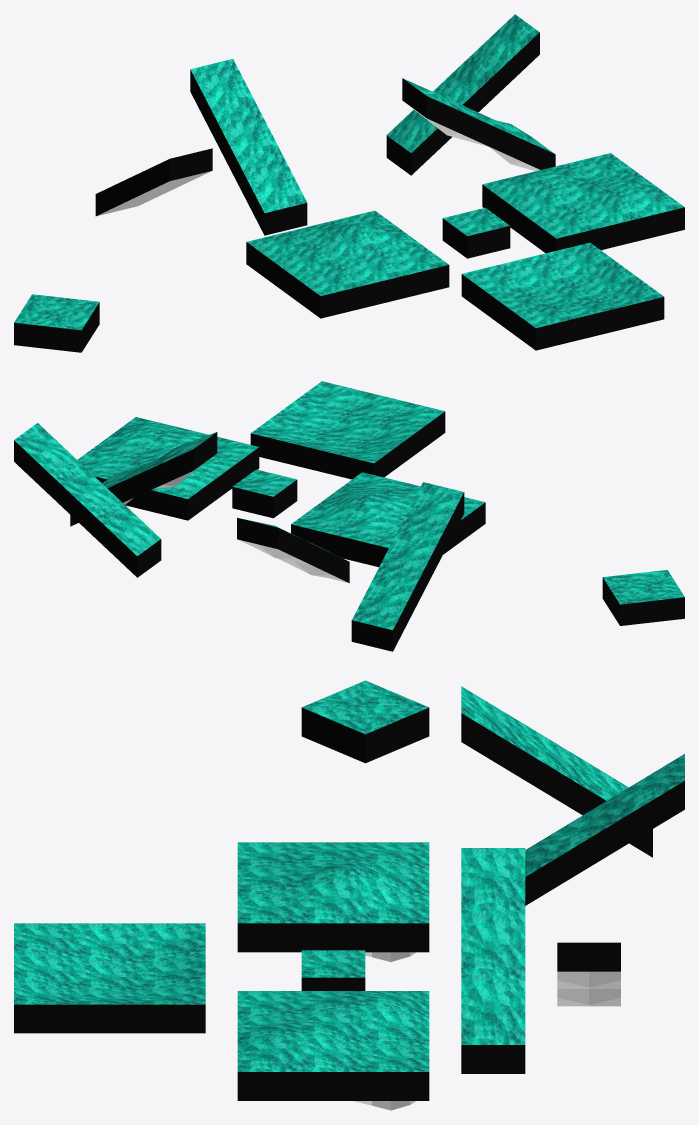
File: CaveModularFloors.glb
3 views of the same model, one above another, from view 1: azimuth 30°, elevation 25°; view 2: azimuth 150°, elevation 25°; view 3: azimuth 270°, elevation 25° (orthographic). The views are drawn at different scales.
Parts seen in each view (by area): view 1: Flloor4, Floor2, Floor3, RampN1, RampE1, RampW1, RampS1, Floor1, Corner2, Corner1, Corner3, Corner4; view 2: Flloor4, RampS1, Floor3, Floor2, RampE1, RampW1, RampN1, Floor1, Corner4, Corner3, Corner1, Corner2; view 3: Floor2, Floor3, Flloor4, RampW1, RampN1, RampS1, RampE1, Corner1, Corner3, Floor1, Corner2, Corner4.
Boxes of the visible parts, box(x1,y1,x2,y2) form: Flloor4: box(461, 242, 664, 350); Floor2: box(246, 210, 449, 318); Floor3: box(482, 153, 684, 253); RampN1: box(190, 59, 307, 235); RampE1: box(386, 14, 539, 175); RampW1: box(402, 78, 555, 171); RampS1: box(95, 148, 212, 216); Floor1: box(442, 207, 510, 258); Corner2: box(14, 312, 81, 352); Corner1: box(57, 302, 99, 351); Corner3: box(33, 294, 99, 311); Corner4: box(14, 294, 56, 322); Flloor4: box(250, 381, 445, 479); RampS1: box(351, 482, 464, 651); Floor3: box(77, 417, 259, 520); Floor2: box(291, 472, 485, 567); RampE1: box(14, 423, 161, 577); RampW1: box(70, 432, 217, 526); RampN1: box(237, 518, 349, 583); Floor1: box(232, 469, 297, 518); Corner4: box(620, 587, 684, 625); Corner3: box(602, 577, 643, 625); Corner1: box(603, 570, 666, 586); Corner2: box(644, 570, 684, 596); Floor2: box(237, 842, 429, 962); Floor3: box(237, 991, 429, 1110); Flloor4: box(14, 923, 205, 1033); RampW1: box(461, 848, 525, 1073); RampN1: box(525, 754, 684, 905); RampS1: box(461, 686, 652, 857); RampE1: box(557, 942, 620, 1006); Corner1: box(301, 707, 365, 762); Corner3: box(365, 707, 429, 763); Floor1: box(301, 950, 365, 990); Corner2: box(302, 680, 365, 707); Corner4: box(365, 680, 428, 707).
Size of the model in its own units: 29 by 5.94 by 21.
3 materials, 1 textured.
